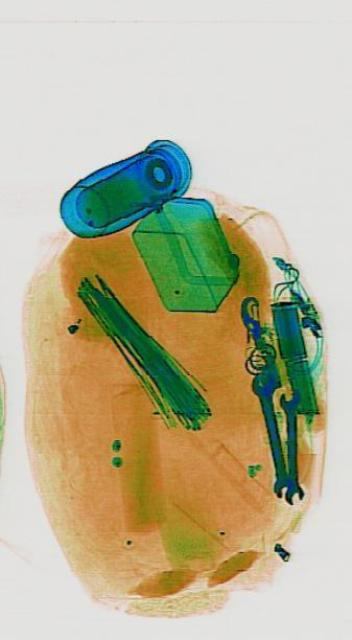Wrench: (247, 364, 294, 500), (276, 384, 300, 504)
